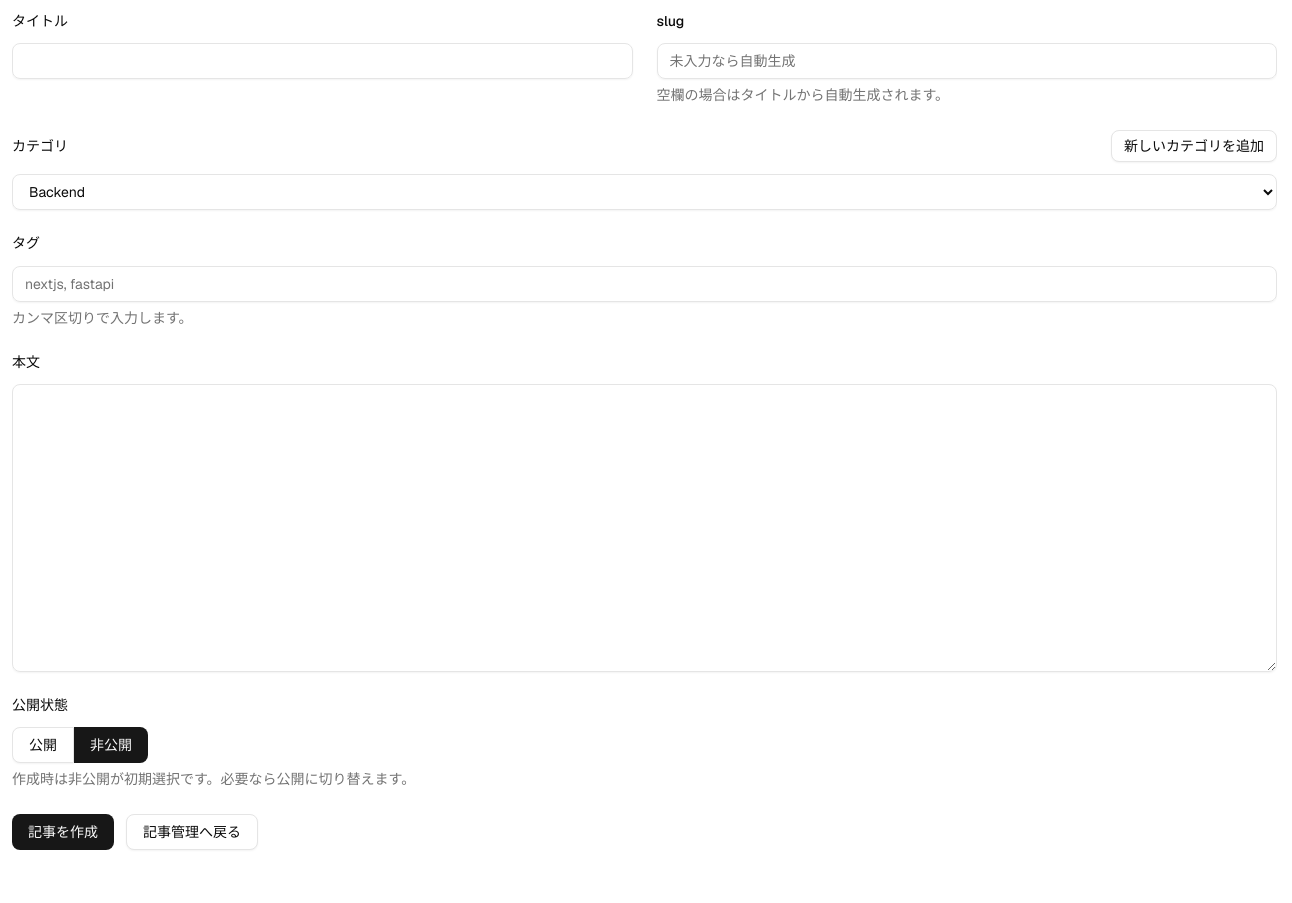
Test case: CreateArticleForm › カテゴリ作成成功後に追加欄を閉じ、選択肢へ追加するが自動選択しない
The image size is (1292, 903).
Click the button "新しいカテゴリを追加". click: (1194, 146)
box: left=1111, top=130, right=1277, bottom=162
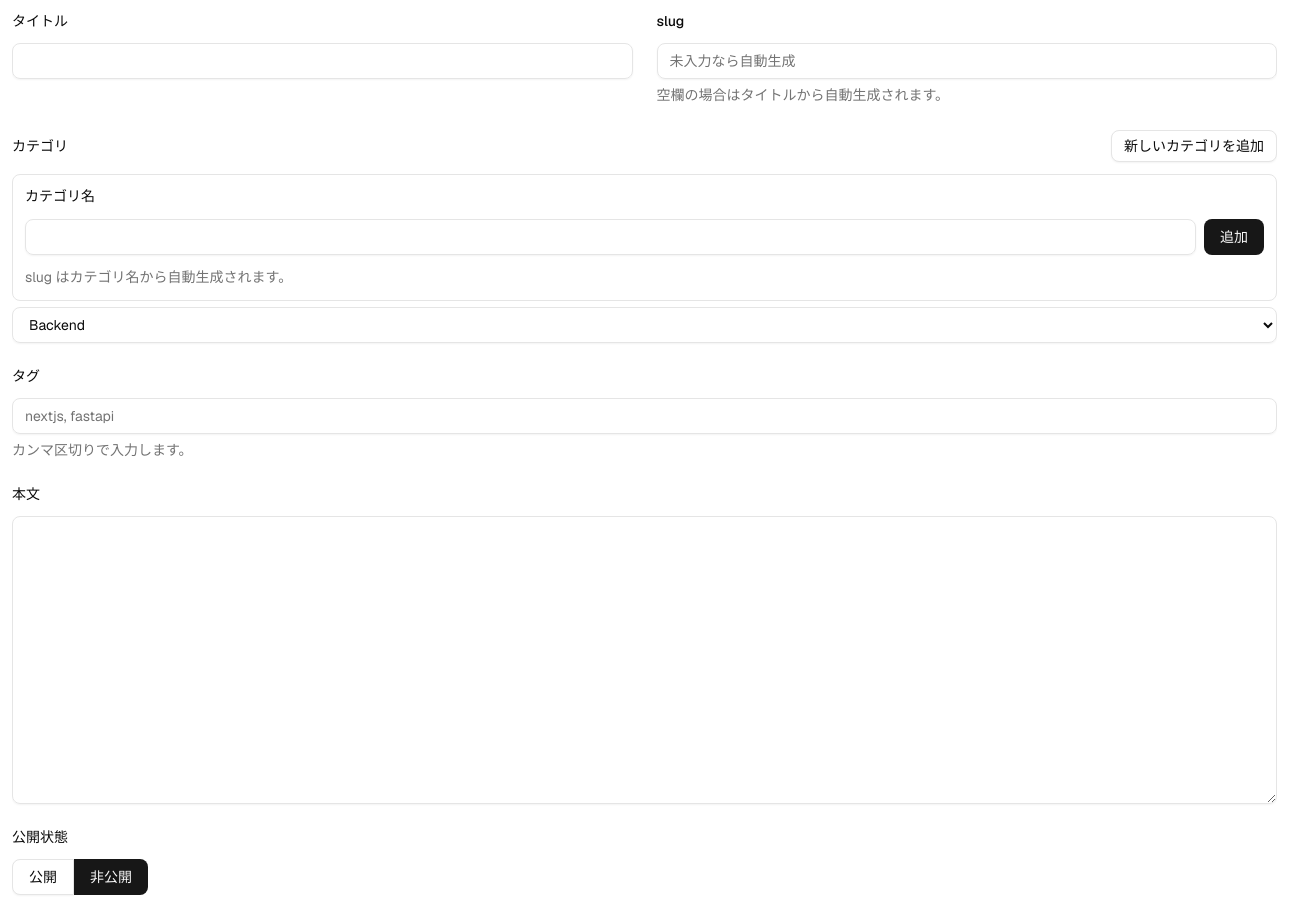
Type "Testing" into the field labelled "カテゴリ名". click: (610, 236)
box: left=25, top=218, right=1196, bottom=254
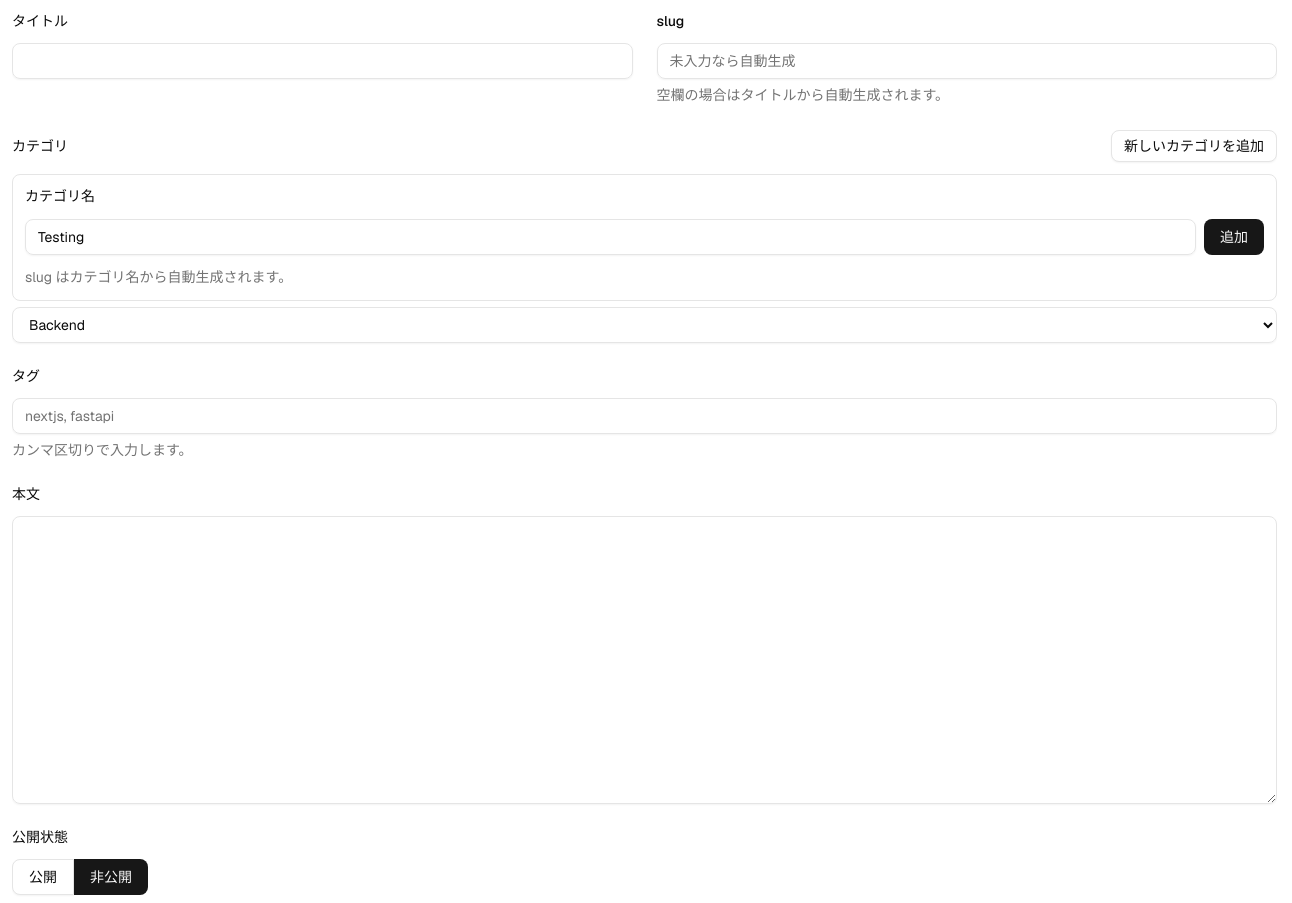
Click the button "追加". click: (1234, 236)
box: left=1204, top=218, right=1264, bottom=254
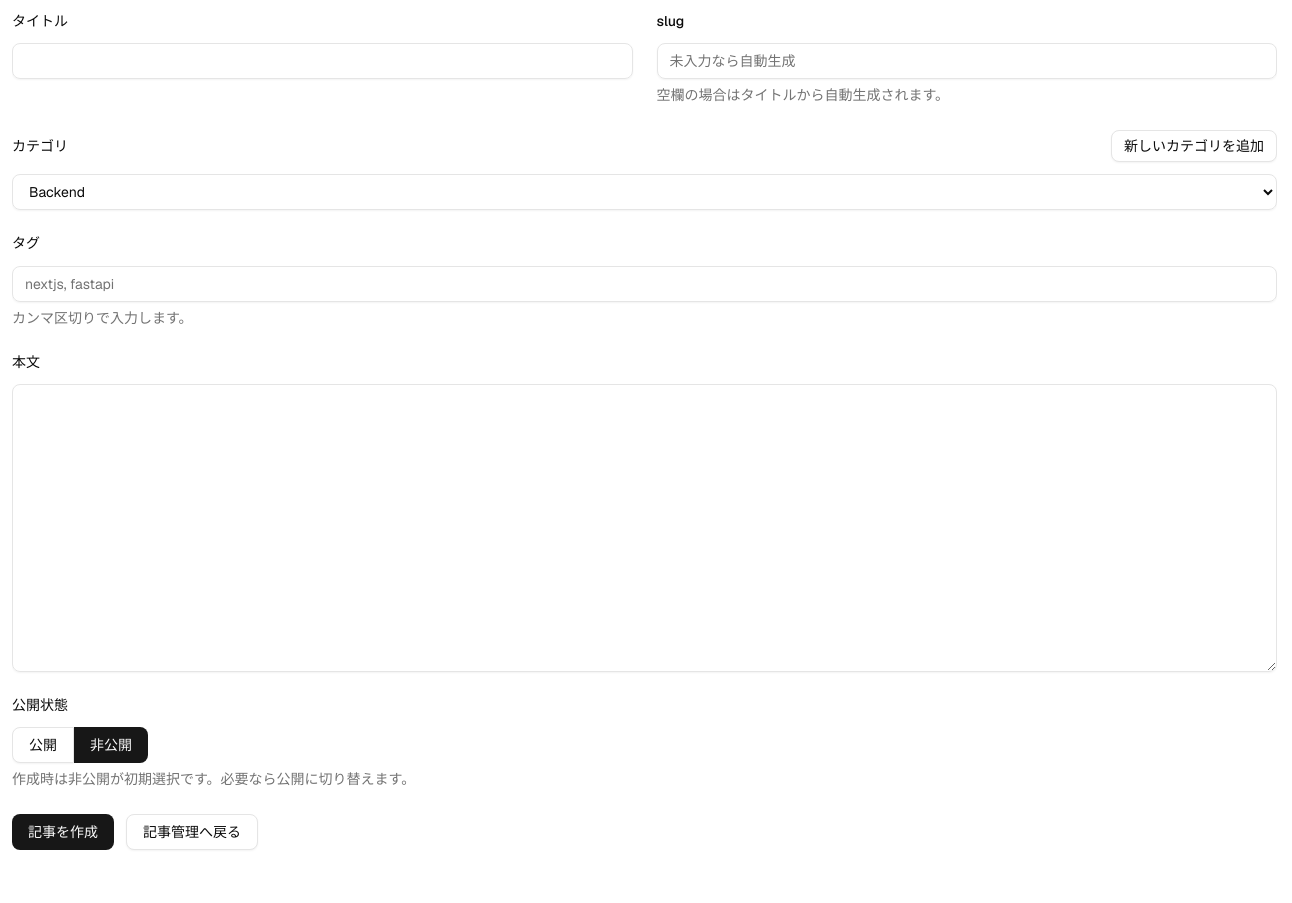
Expected: the dropdown labelled "カテゴリ" shows "Backend", left=12, top=174, right=1277, bottom=210
Expected: the label labelled "カテゴリ名" is gone
